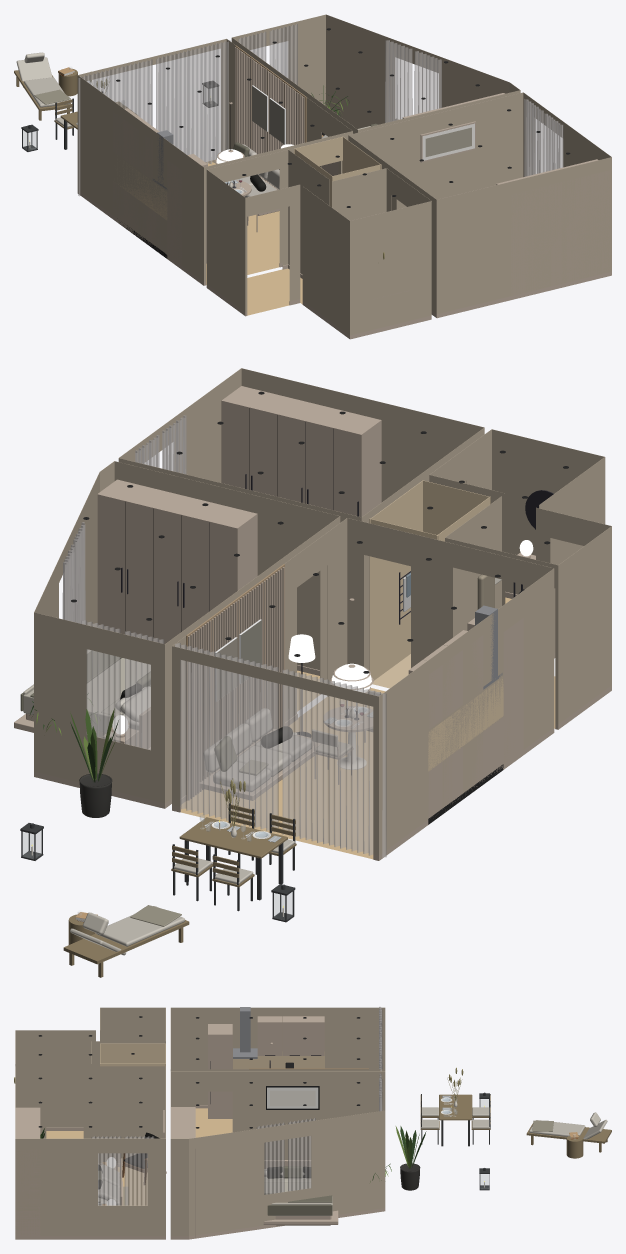
File: unit-0.B-natura.glb
3 views of the same model, one above another, from view 1: azimuth 30°, elevation 25°; view 2: azimuth 150°, elevation 25°; view 3: azimuth 270°, elevation 25° (orthographic). The views are drawn at different scales.
Visible parts, largest first — view 1: int-wall, int-sheer, int-joineryTall, int-wood, int-joinery, int-skirting, int-bathWall, int-floor, int-hallFloor, int-outCushion, int-teak, int-art:3:1 (+7 smaller); view 2: int-wall, int-joineryTall, int-sheer, int-wood, int-floor, int-bathWall, int-teak, int-joinery, int-sofa, int-splash, int-outdoor, int-duvet (+10 smaller); view 3: int-wall, int-sheer, int-joineryTall, int-joinery, int-teak, int-bathWall, int-floor, int-skirting, int-outCushion, int-wood, int-splash, int-bedThrow (+7 smaller).
Boxes of the visible parts, <box> form: int-wall: <box>77,14,611,335</box>; int-sheer: <box>78,24,563,196</box>; int-joineryTall: <box>167,93,611,299</box>; int-wood: <box>215,47,475,299</box>; int-joinery: <box>113,108,166,253</box>; int-skirting: <box>77,190,611,339</box>; int-bathWall: <box>294,136,381,207</box>; int-floor: <box>206,160,279,284</box>; int-hallFloor: <box>247,268,302,315</box>; int-outCushion: <box>16,57,72,127</box>; int-teak: <box>14,68,136,129</box>; int-art:3:1: <box>425,127,471,156</box>; int-wall: <box>34,368,611,855</box>; int-joineryTall: <box>97,386,523,769</box>; int-sheer: <box>62,415,386,857</box>; int-wood: <box>14,552,535,800</box>; int-floor: <box>180,670,385,859</box>; int-bathWall: <box>369,480,490,680</box>; int-teak: <box>63,804,296,977</box>; int-joinery: <box>408,630,503,818</box>; int-sofa: <box>204,708,311,791</box>; int-splash: <box>428,677,503,769</box>; int-outdoor: <box>20,803,295,922</box>; int-duvet: <box>23,649,150,732</box>; int-wall: <box>15,1007,385,1236</box>; int-sheer: <box>91,1007,382,1205</box>; int-joineryTall: <box>15,1024,232,1239</box>; int-joinery: <box>257,1016,324,1055</box>; int-teak: <box>420,1094,611,1158</box>; int-bathWall: <box>100,1043,165,1066</box>; int-floor: <box>118,1108,232,1205</box>; int-skirting: <box>15,1105,385,1239</box>; int-outCushion: <box>421,1107,607,1139</box>; int-wood: <box>113,1042,338,1225</box>; int-splash: <box>233,1051,324,1069</box>; int-bedThrow: <box>264,1193,332,1215</box>.
Size of the model in its own units: 7.58 by 2.82 by 14.46.
